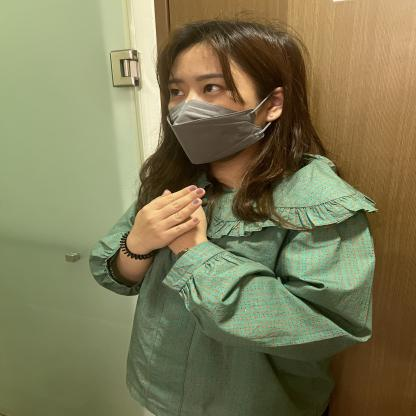Grieve: (94, 149, 303, 275)
